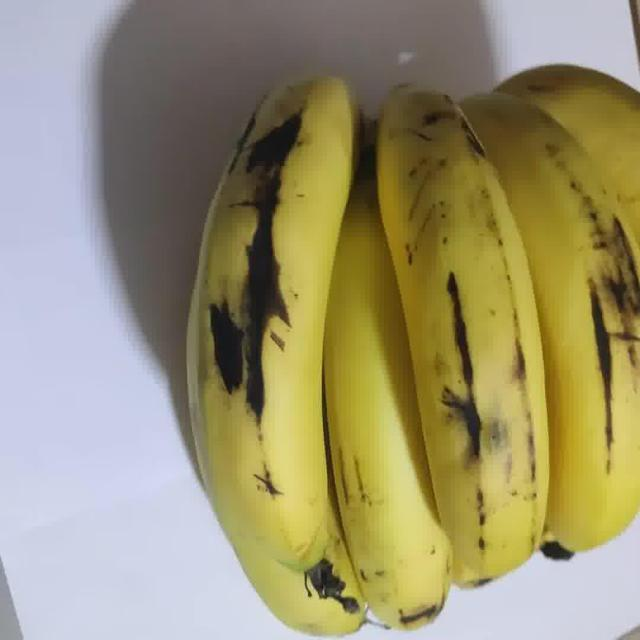Banana: (184, 66, 639, 635)
